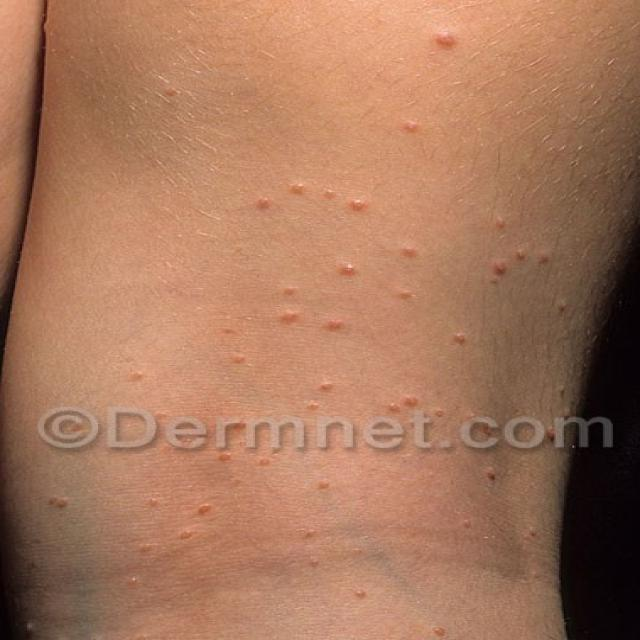Viral Infections: (289, 361, 547, 485), (252, 236, 430, 353), (144, 454, 272, 560), (442, 221, 591, 306), (233, 183, 392, 239), (27, 610, 240, 640), (18, 481, 108, 542), (376, 102, 452, 154), (412, 17, 488, 58)
